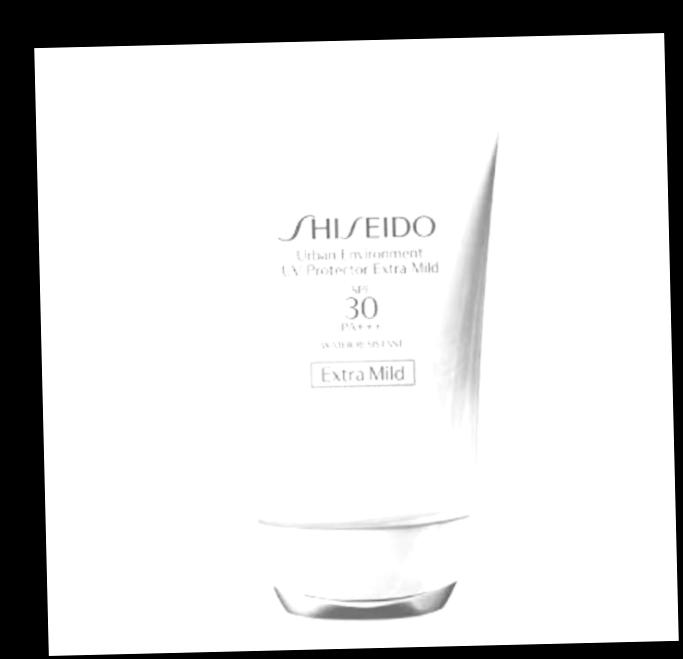cosmetic: (210, 107, 514, 628)
